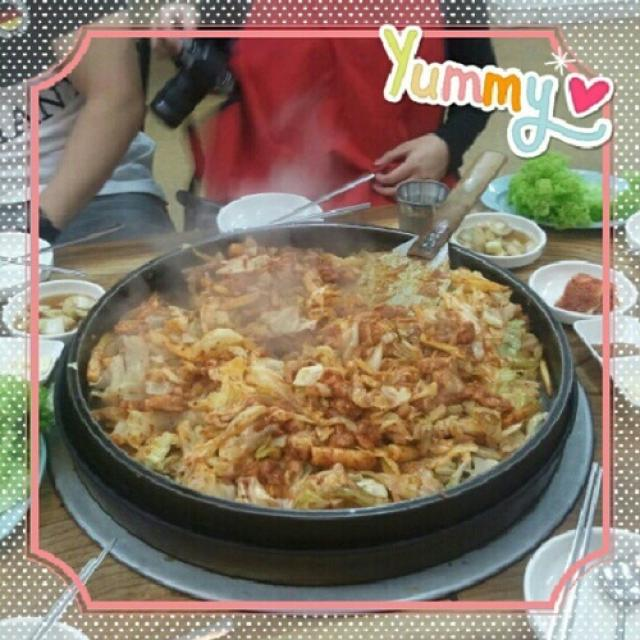鸡肉料理 含炸鸡: (64, 87, 585, 572)
